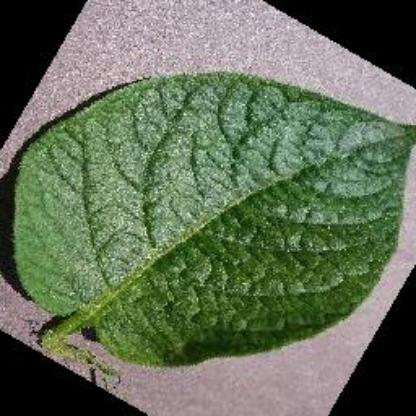Healthy-plant: (10, 70, 416, 368)
